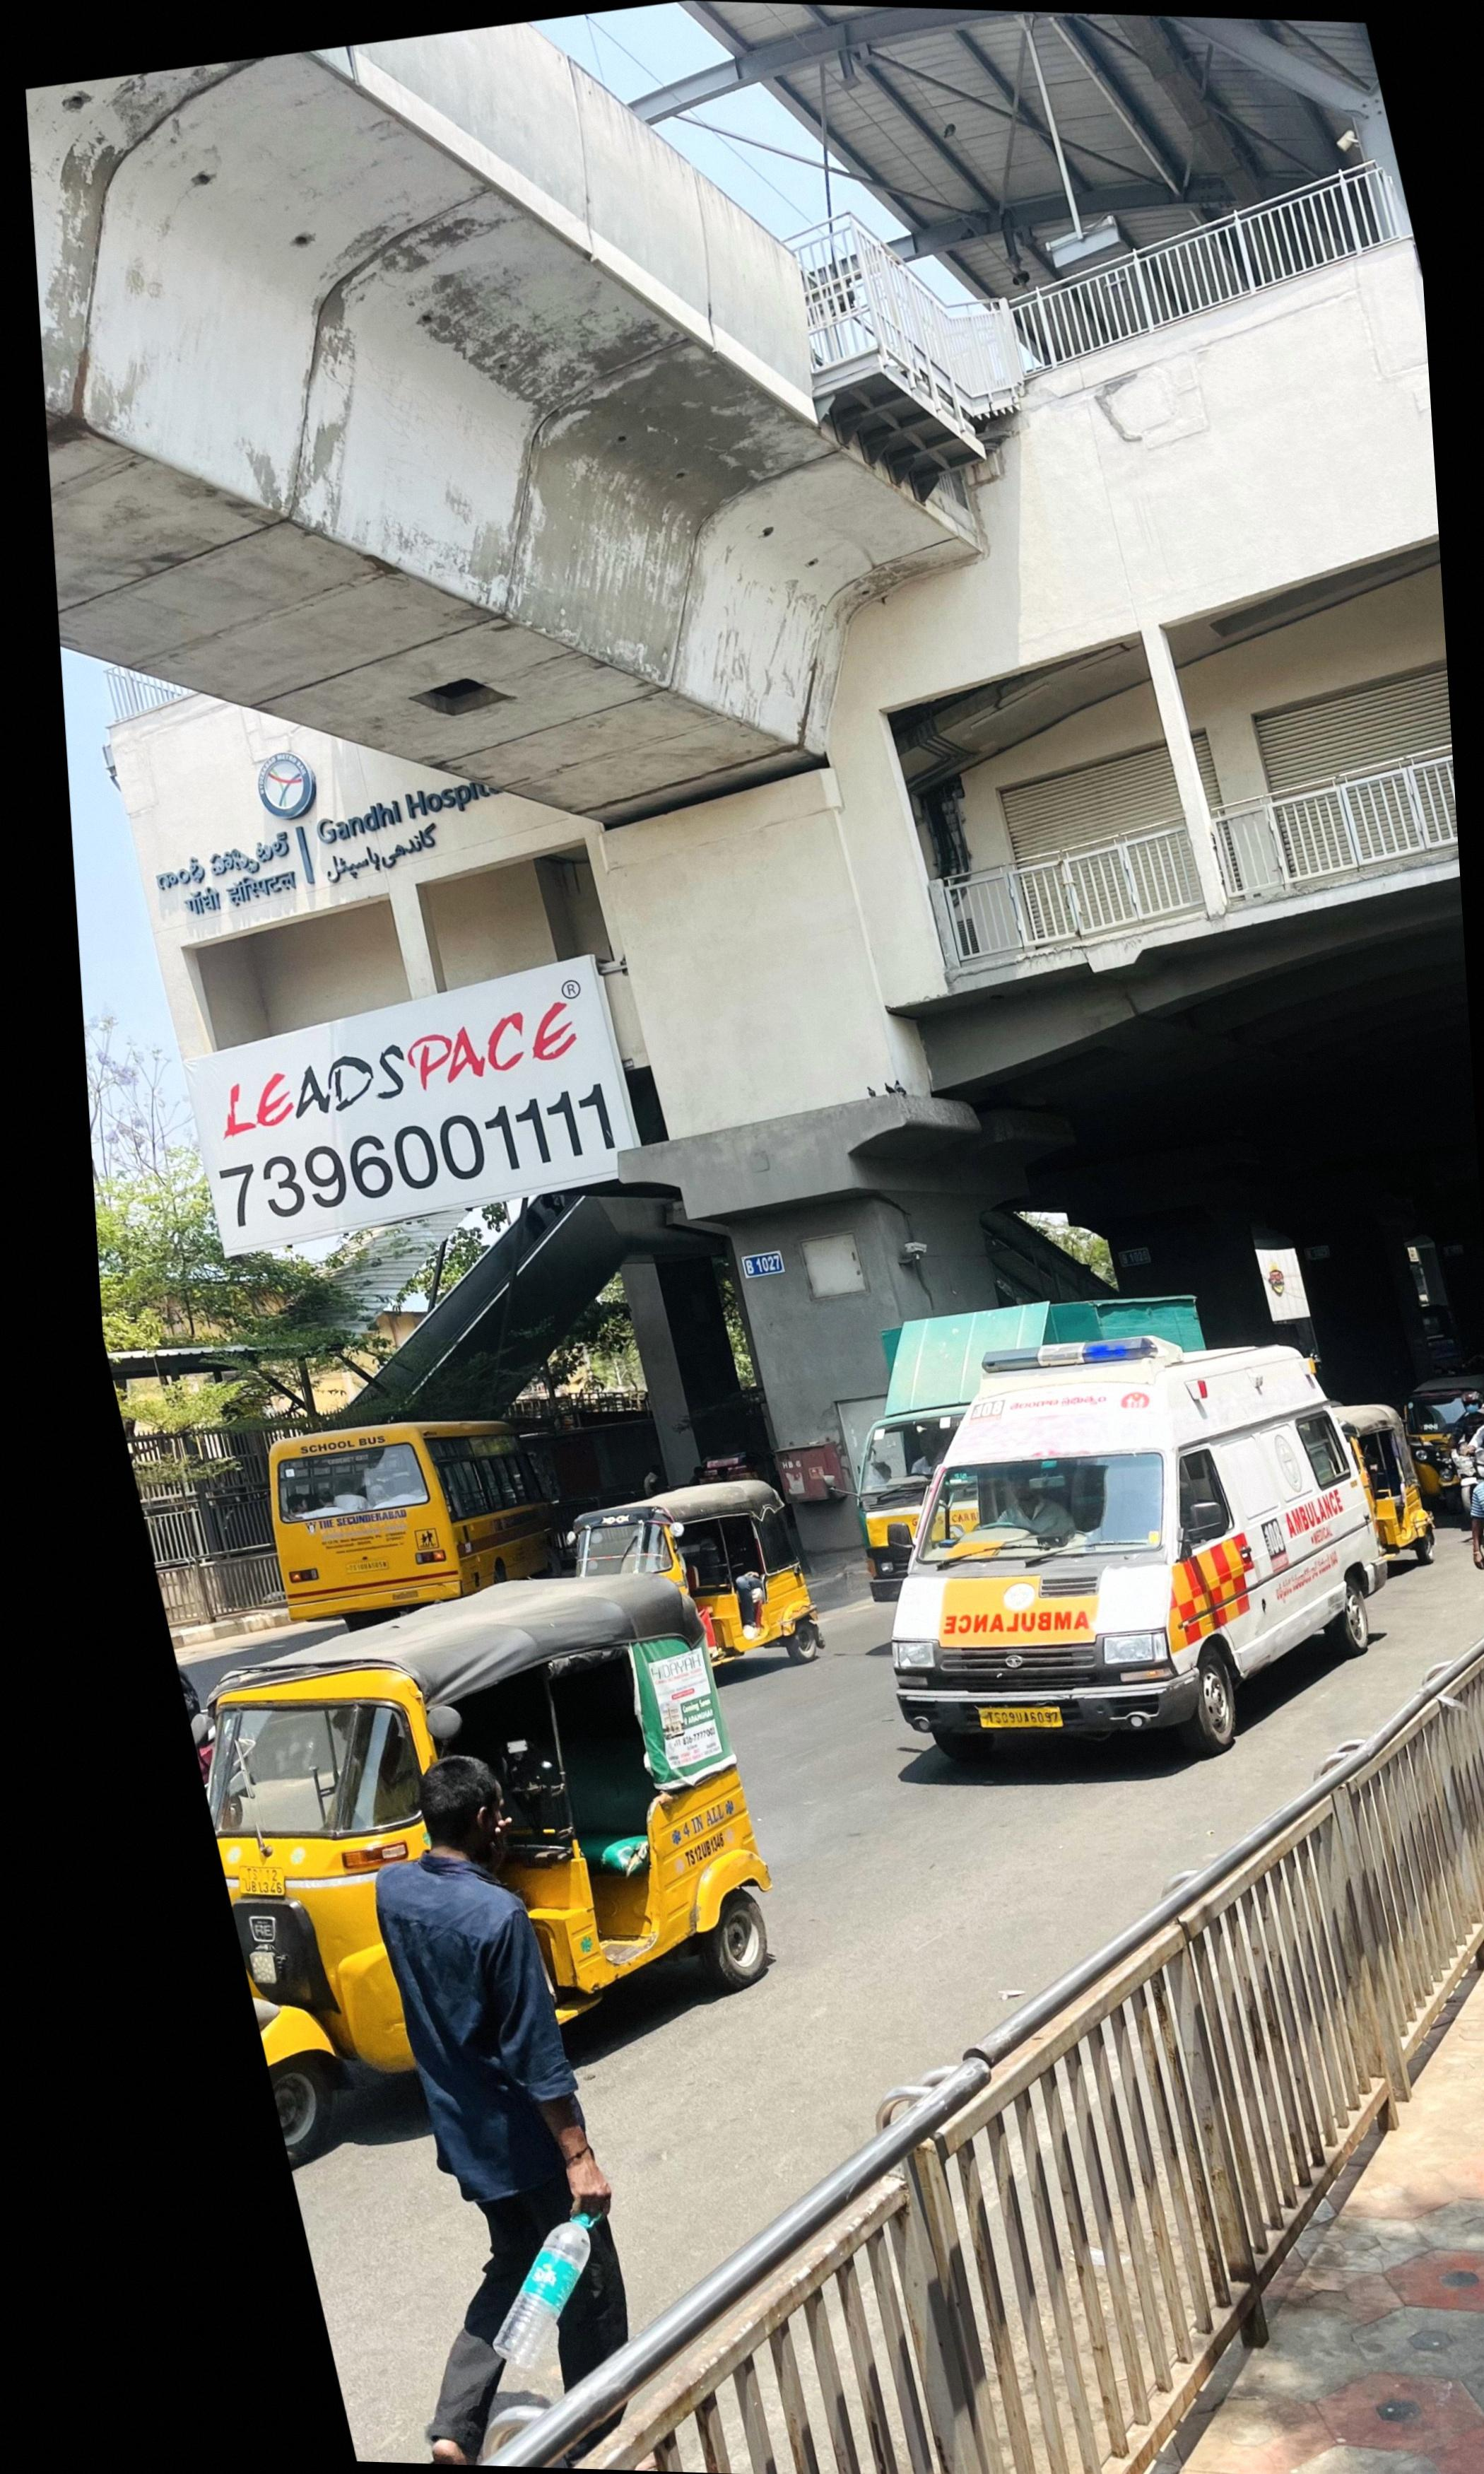ambulance: (882, 1345, 1417, 1765), (892, 1334, 1390, 1757)
